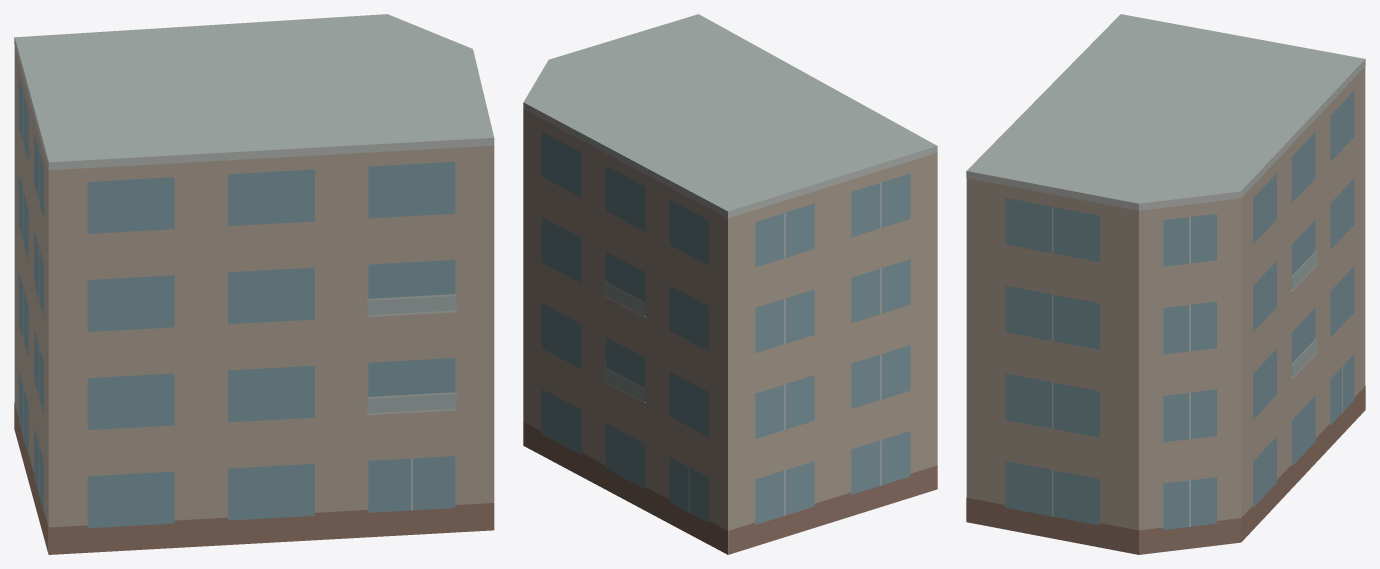
The model's file is survey-upis-32906257.glb.
3 views of the same model, side by side, from view 1: azimuth 30°, elevation 25°; view 2: azimuth 150°, elevation 25°; view 3: azimuth 270°, elevation 25° (orthographic). The views are drawn at different scales.
Visible parts, largest first — view 1: survey-upis-32906257.tmp; view 2: survey-upis-32906257.tmp; view 3: survey-upis-32906257.tmp.
Boxes of the visible parts, bbox=[...] form: survey-upis-32906257.tmp: bbox=[14, 14, 494, 554]; survey-upis-32906257.tmp: bbox=[523, 14, 937, 554]; survey-upis-32906257.tmp: bbox=[966, 14, 1365, 554].
Bounding box in the file's own units: 14.14 × 12.2 × 12.57.
